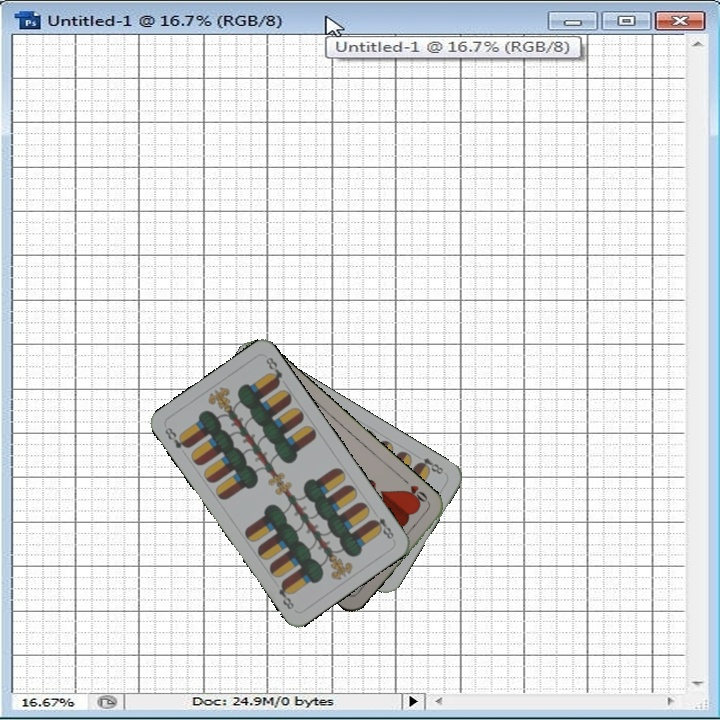E8: (161, 423, 192, 452), (412, 451, 446, 477), (368, 513, 397, 542)
HO: (399, 475, 432, 507)
